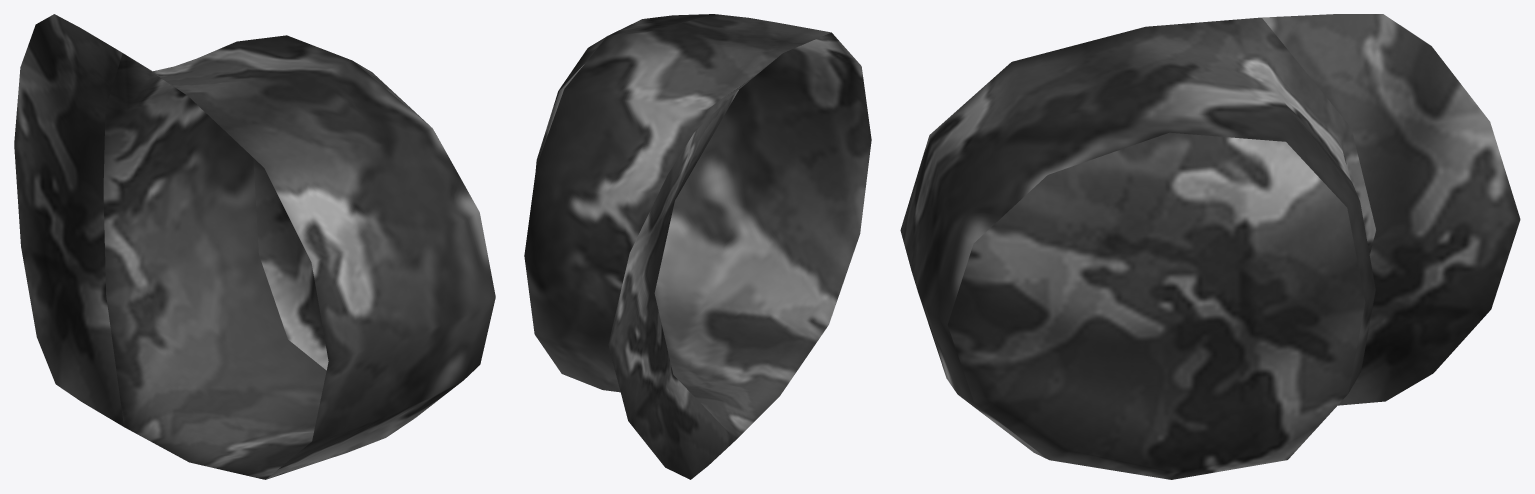
The model's file is ArmyHatReversed_M.fbx.
The picture shows the model from 3 angles, left to right: view 1: azimuth 30°, elevation 25°; view 2: azimuth 150°, elevation 25°; view 3: azimuth 270°, elevation 25°; orthographic projection. The views are drawn at different scales.
Visible parts, largest first — view 1: Circle; view 2: Circle; view 3: Circle.
Boxes of the visible parts, x1,y1,x2,y2 form: Circle: (14,14,495,479); Circle: (524,14,871,479); Circle: (900,14,1520,479).
Bounding box in the file's own units: 0.0985 × 0.1472 × 0.2117.
